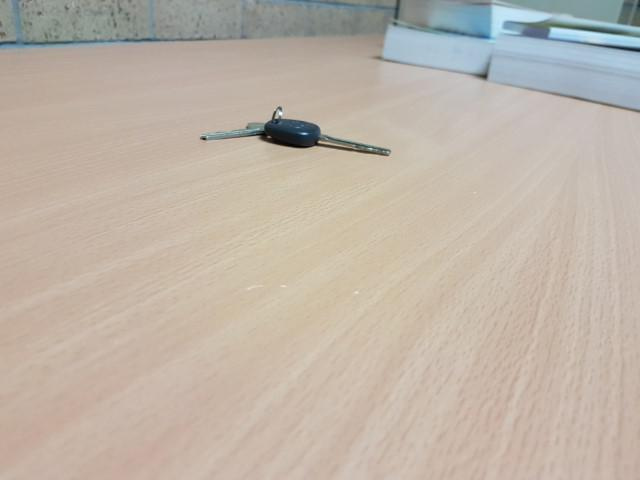key: (267, 118, 391, 156)
